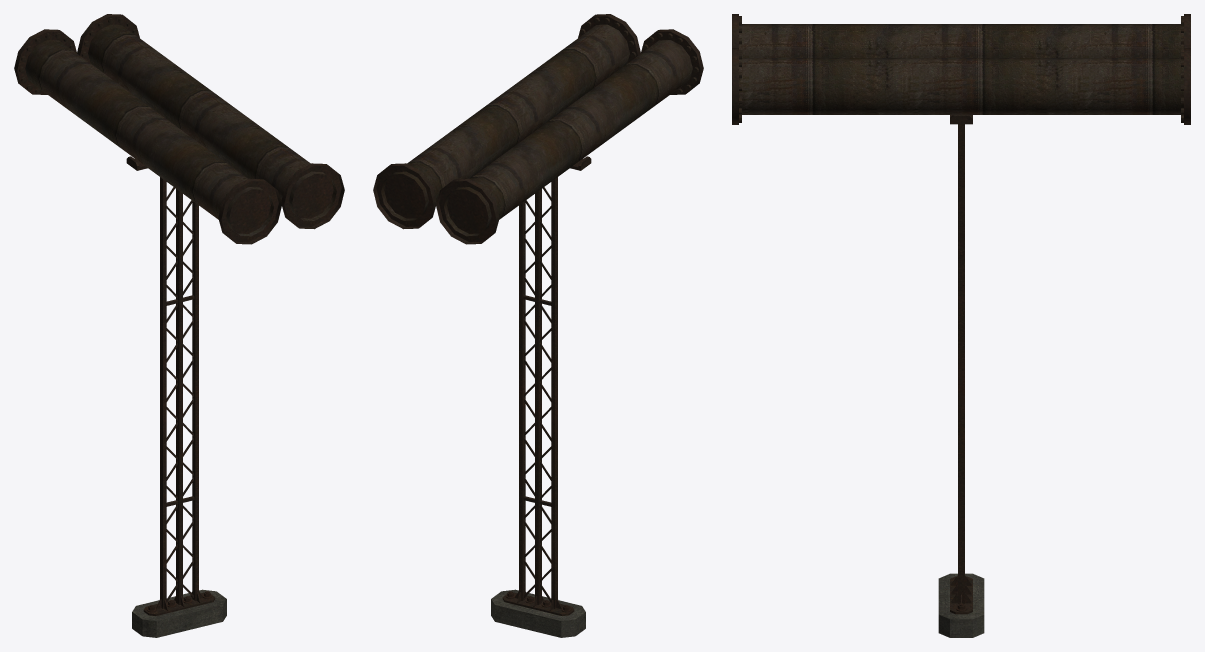
The model's file is pipe_dx_2.obj.
3 renders of one model, left to right at view 1: azimuth 30°, elevation 25°; view 2: azimuth 150°, elevation 25°; view 3: azimuth 270°, elevation 25°, orthographic. The views are drawn at different scales.
Parts seen in each view (by area): view 1: pipe_dx_2; view 2: pipe_dx_2; view 3: pipe_dx_2.
Boxes of the visible parts, x1,y1,x2,y2 form: pipe_dx_2: [14, 14, 344, 637]; pipe_dx_2: [373, 14, 703, 637]; pipe_dx_2: [732, 14, 1190, 637].
Size of the model in its own units: 1.38 by 5.59 by 4.
